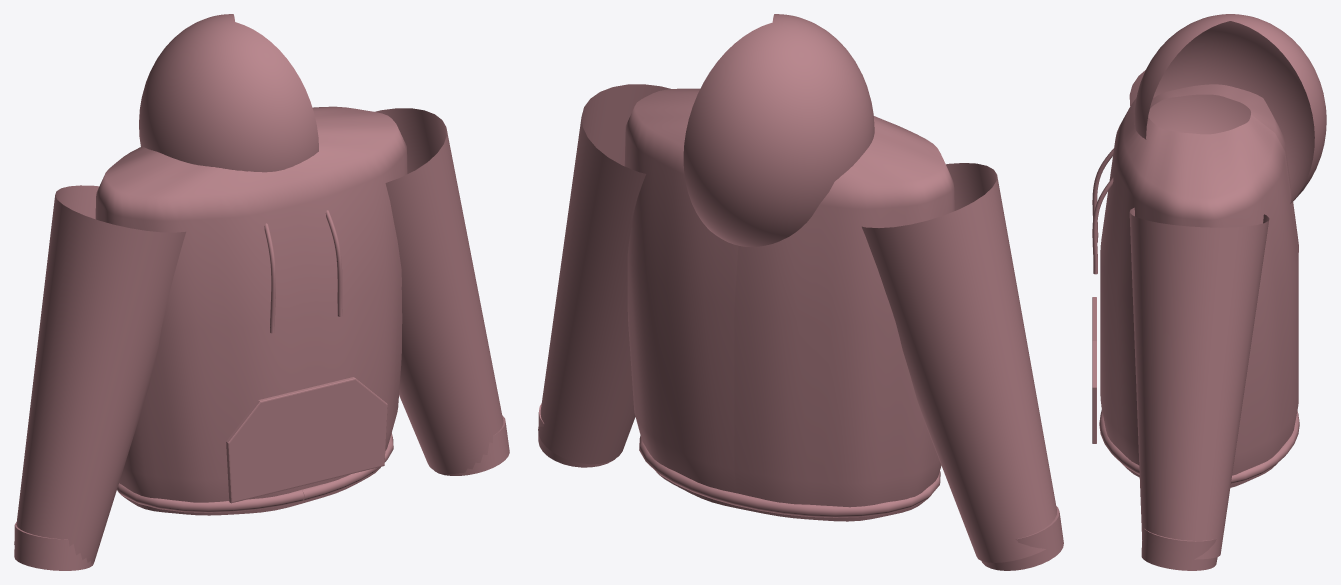
The model's file is hoodie-rose-homme.glb.
3 views of the same model, side by side, from view 1: azimuth 30°, elevation 25°; view 2: azimuth 150°, elevation 25°; view 3: azimuth 270°, elevation 25° (orthographic). The views are drawn at different scales.
Visible parts, largest first — view 1: hoodie-rose, long-sleeve (×2); view 2: hoodie-rose, long-sleeve (×2); view 3: hoodie-rose, long-sleeve.
Boxes of the visible parts, box(x1,y1,x2,y2) form: hoodie-rose: box(14, 14, 509, 570); long-sleeve (×2): box(14, 108, 503, 563); hoodie-rose: box(538, 14, 1063, 570); long-sleeve (×2): box(538, 84, 1056, 562); hoodie-rose: box(1092, 14, 1326, 570); long-sleeve: box(1129, 207, 1269, 559).
Size of the model in its own units: 0.7702 by 0.7203 by 0.341.
